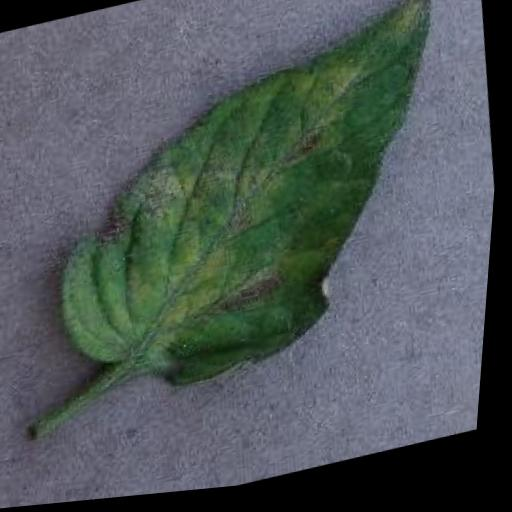Leaf Mold: (26, 0, 484, 419)
